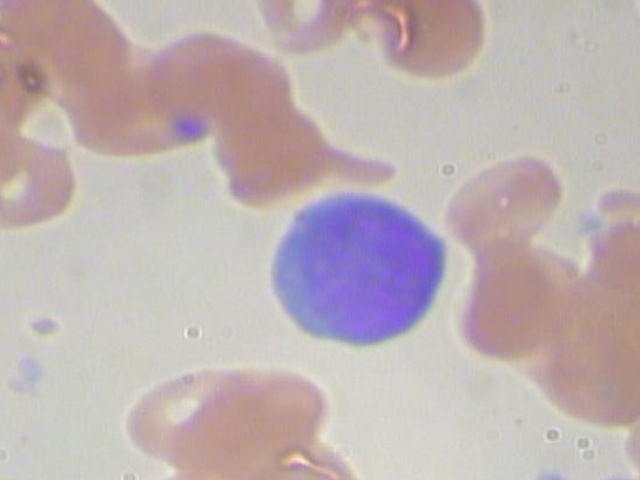RBC: (110, 360, 265, 466), (437, 145, 567, 251), (0, 125, 79, 232)
WBC: (249, 182, 456, 351)
